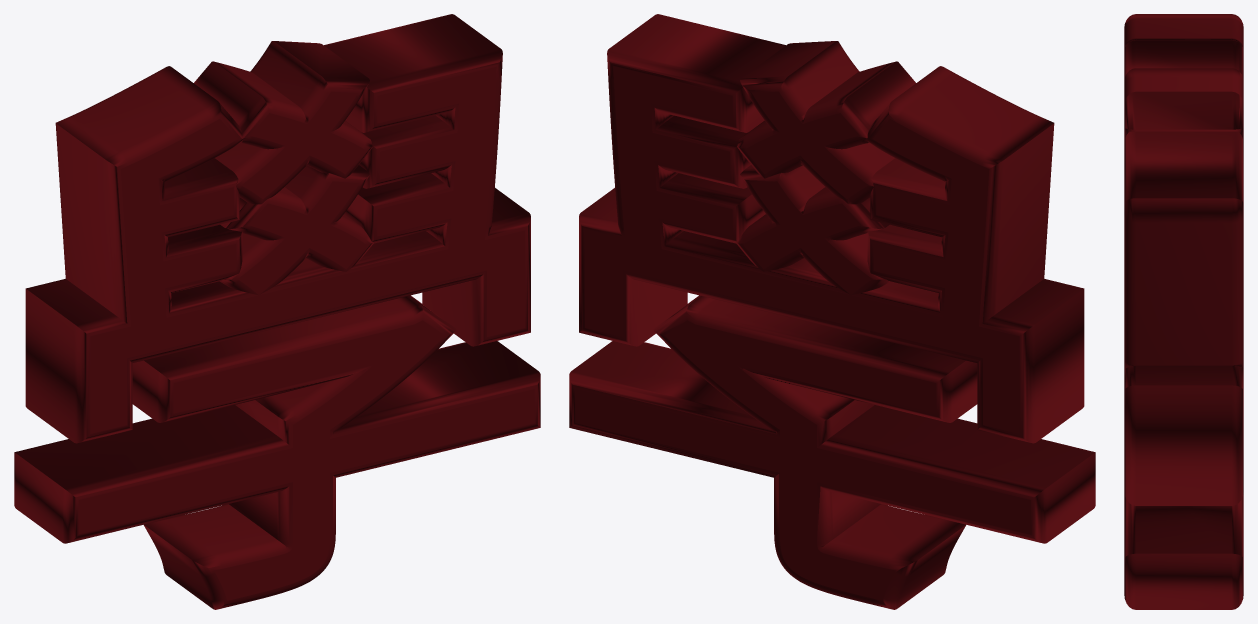
File: MottoHok.fbx
The picture shows the model from 3 angles, left to right: view 1: azimuth 30°, elevation 25°; view 2: azimuth 150°, elevation 25°; view 3: azimuth 270°, elevation 25°; orthographic projection.
Visible parts, largest first — view 1: 文本.007; view 2: 文本.007; view 3: 文本.007.
Part boxes in pixels (bbox=[...]): 文本.007: bbox=[14, 14, 540, 609]; 文本.007: bbox=[569, 14, 1095, 609]; 文本.007: bbox=[1124, 14, 1243, 609].
Size of the model in its own units: 93.5 by 20 by 95.11.
